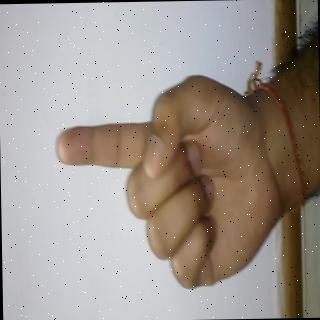I: (49, 81, 278, 288)
